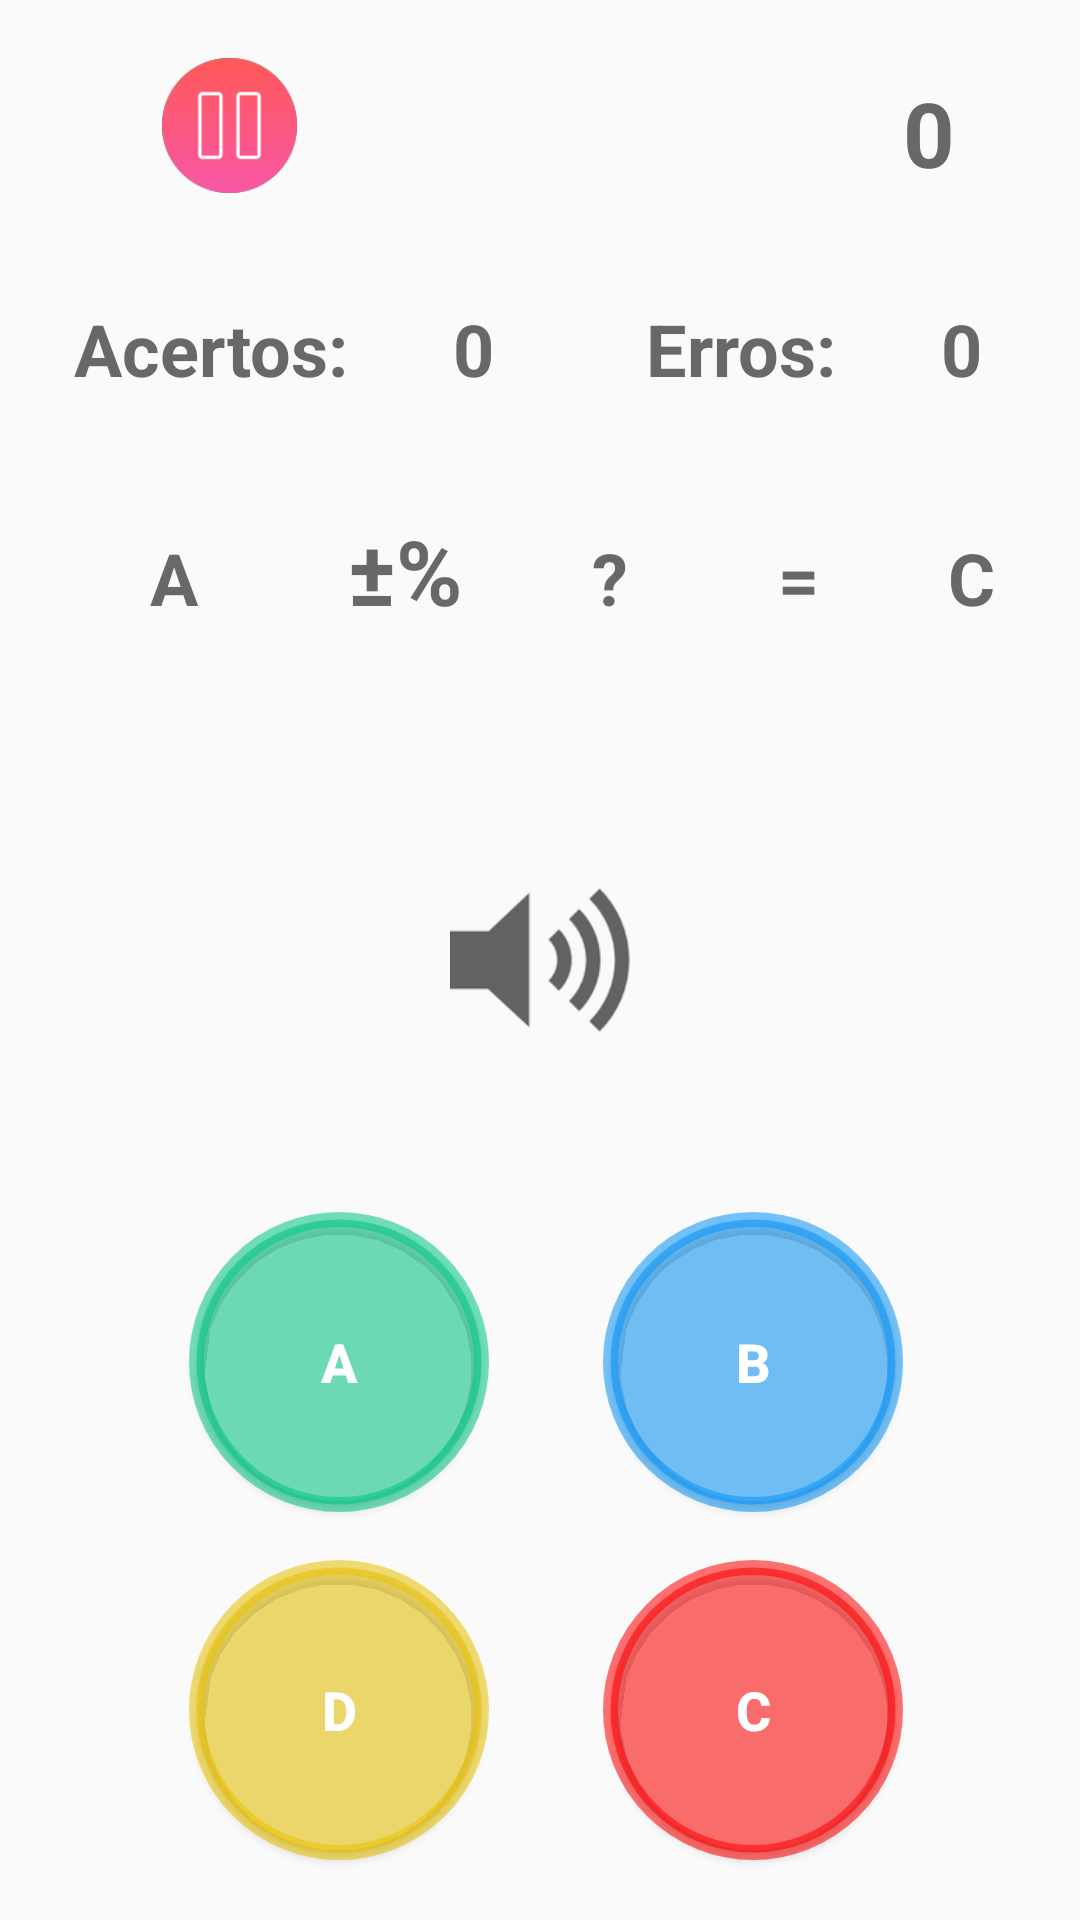

Icons on this 1080px x 1920px Android screen, each with its box as bbox(x1, y1, x2, y2):
audio: bbox(450, 888, 630, 1032)
pause: bbox(162, 58, 297, 193)
